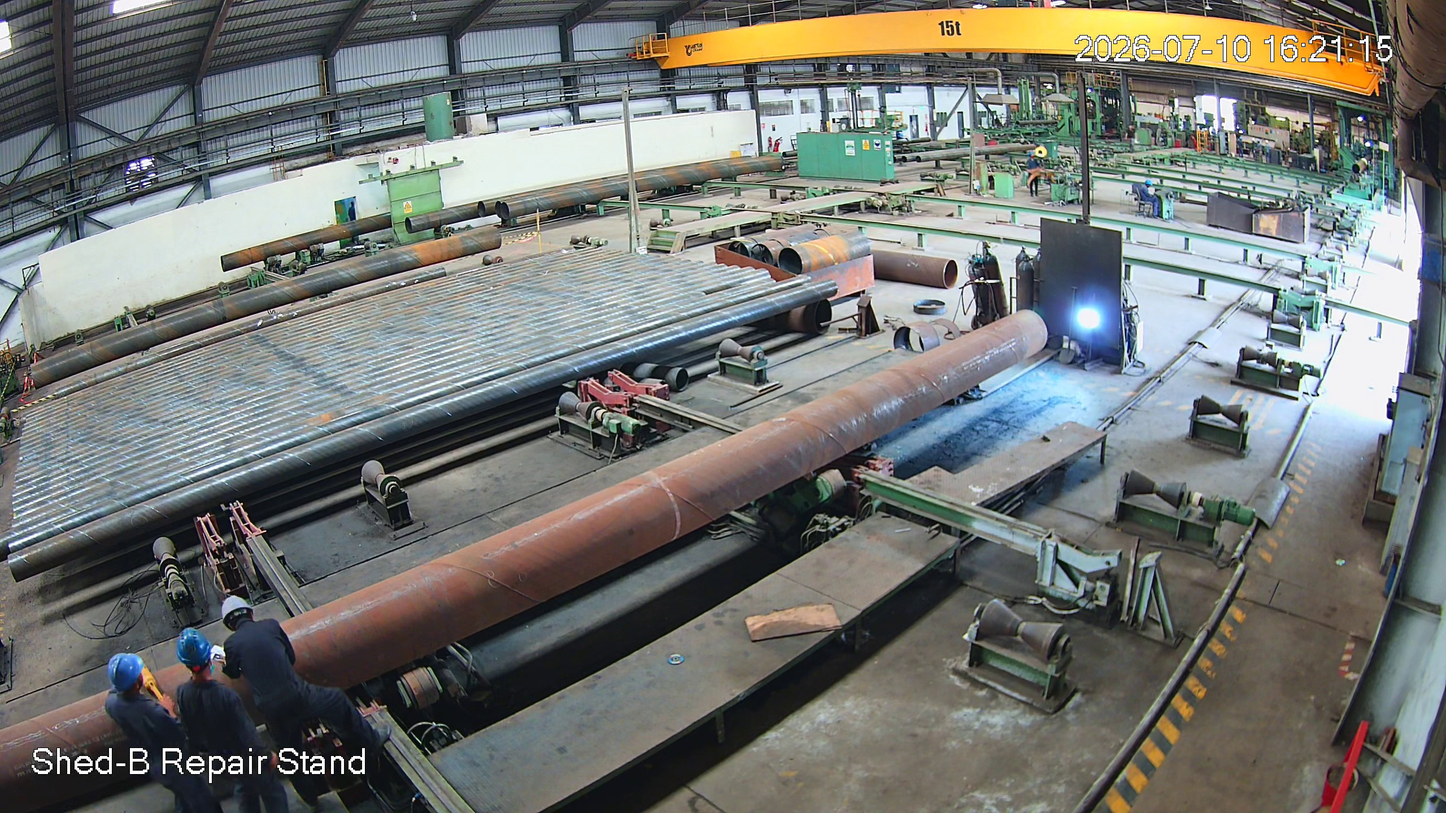Helmet: (167, 623, 231, 696), (217, 594, 278, 650), (110, 651, 155, 713)
Person: (220, 594, 371, 797), (89, 656, 191, 813), (172, 627, 269, 792)
